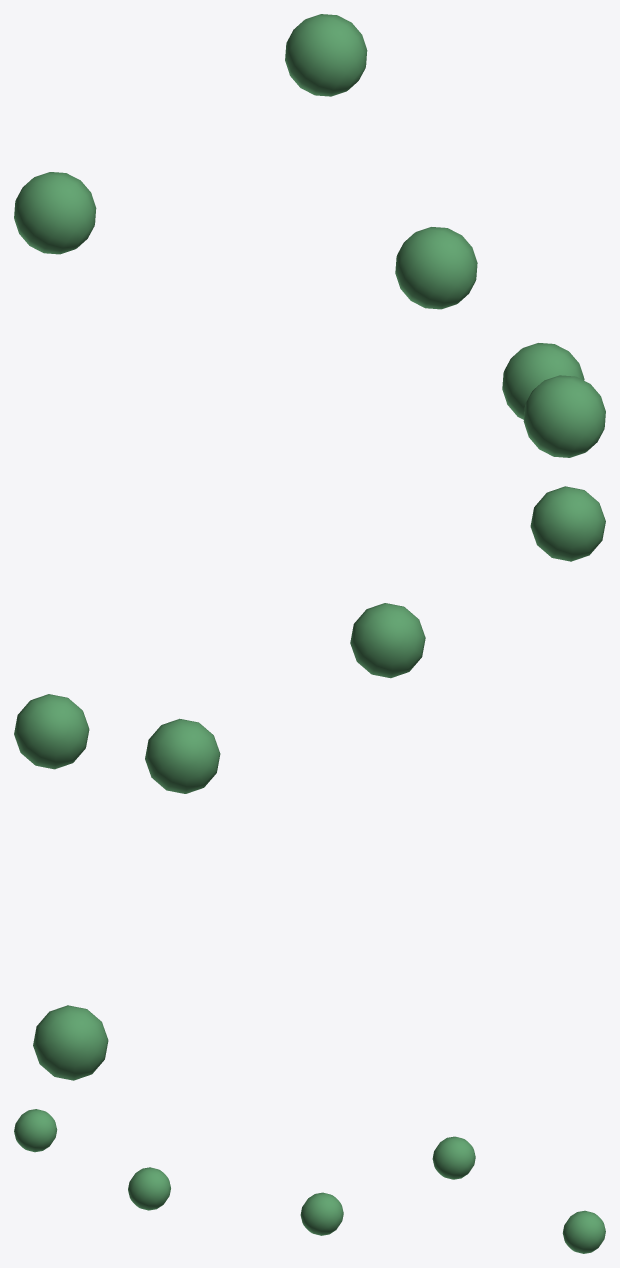
3 renders of one model, top to bottom at view 1: azimuth 30°, elevation 25°; view 2: azimuth 150°, elevation 25°; view 3: azimuth 270°, elevation 25°, orthographic. The views are drawn at different scales.
Visible parts, largest first — view 1: 左侧颈内静脉上段外侧淋巴结; view 2: 左侧颈内静脉上段外侧淋巴结; view 3: 左侧颈内静脉上段外侧淋巴结.
Part boxes in pixels (x1,y1,x2,y2): 左侧颈内静脉上段外侧淋巴结: (14, 14, 605, 457); 左侧颈内静脉上段外侧淋巴结: (14, 486, 605, 1080); 左侧颈内静脉上段外侧淋巴结: (14, 1109, 605, 1253).
Size of the model in its own units: 0.0125 by 0.0146 by 0.0523.
